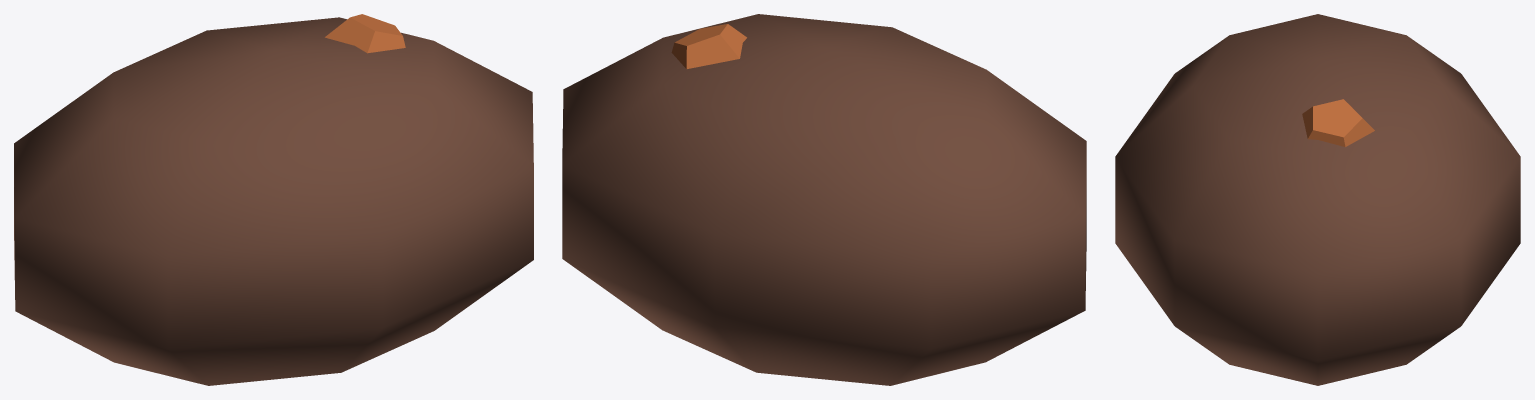
The model's file is desierto_asteroide.obj.
3 renders of one model, left to right at view 1: azimuth 30°, elevation 25°; view 2: azimuth 150°, elevation 25°; view 3: azimuth 270°, elevation 25°, orthographic. The views are drawn at different scales.
Parts seen in each view (by area): view 1: desierto_asteroide; view 2: desierto_asteroide; view 3: desierto_asteroide.
Part boxes in pixels (<box>): desierto_asteroide: <box>14,14,533,385</box>; desierto_asteroide: <box>562,14,1086,385</box>; desierto_asteroide: <box>1115,14,1520,385</box>.
Bounding box in the file's own units: 1.62 × 0.9047 × 1.18.
